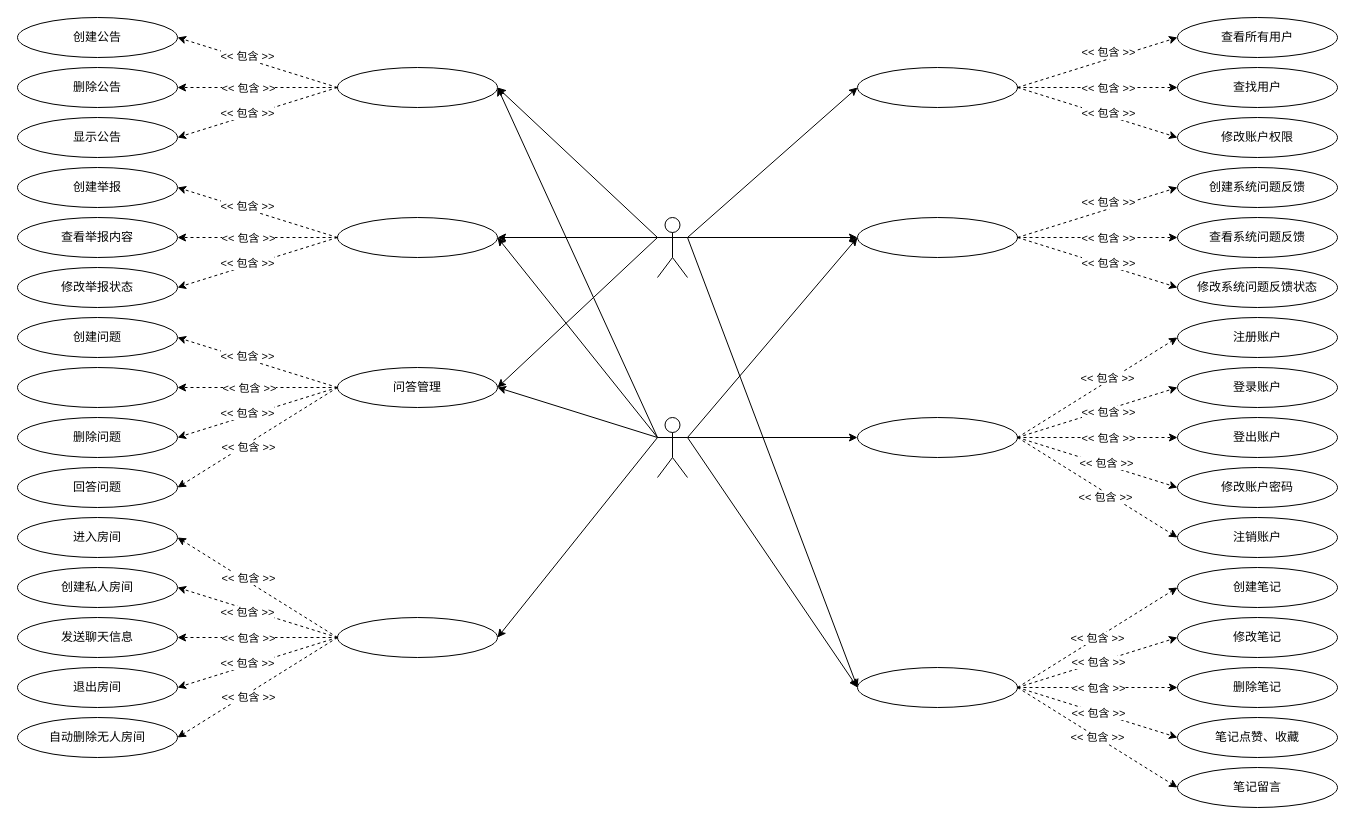
Some shapes in this 1355 by 825 pixel diagram are drawn without their labels. The shapes that lost their labels are listed below. From the top down, each one's box as (x1, y1, x2, y2) in pixels, then its label:
(336, 66, 498, 108): 系统公告管理
(856, 66, 1018, 108): 用户管理
(336, 216, 498, 258): 举报管理
(656, 216, 688, 278): 管理员
(856, 216, 1018, 258): 系统问题反馈管理
(16, 366, 178, 408): 修改问题
(656, 416, 688, 478): 普通用户
(856, 416, 1018, 458): 个人账户管理
(336, 616, 498, 658): 房间管理
(856, 666, 1018, 708): 笔记管理
